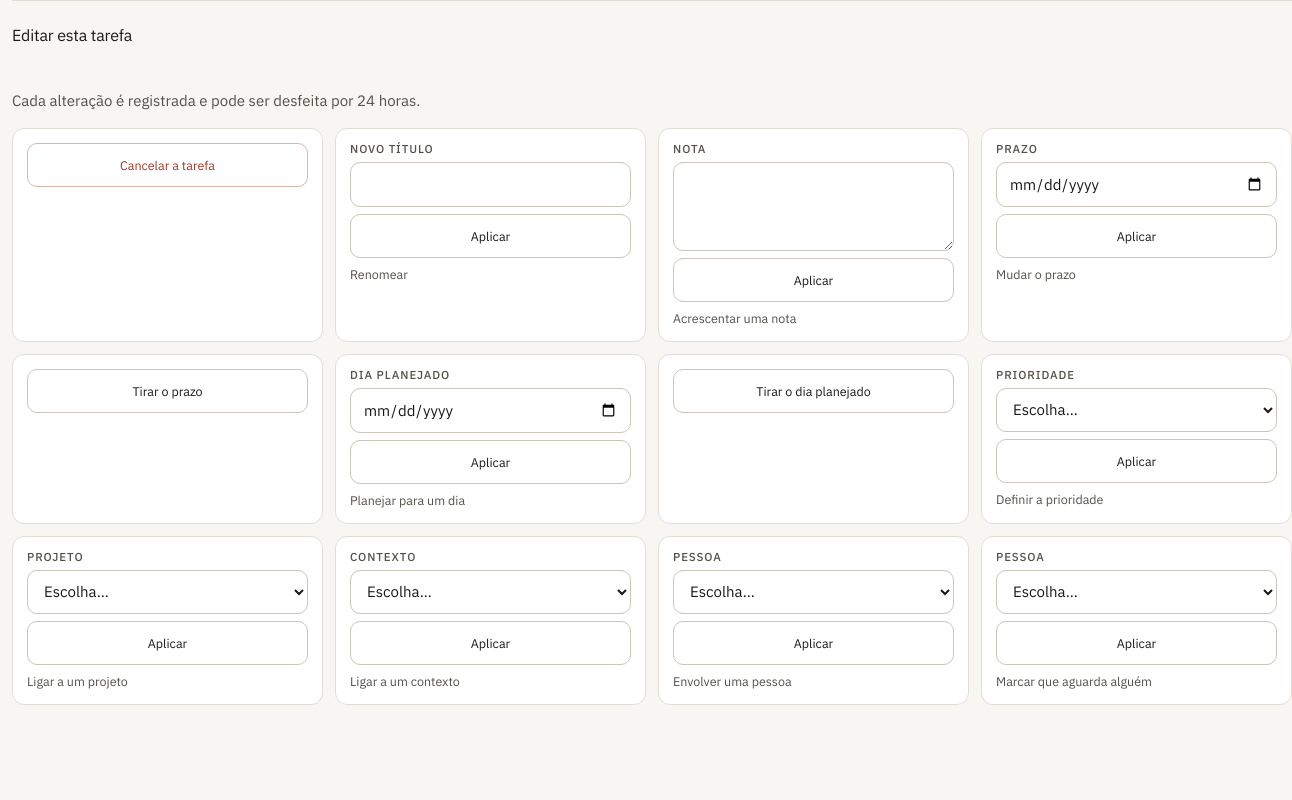
it: what the user is told › renders the declared reason beside the outcome, and moves focus to it
Click the button "Tirar o prazo". click: [168, 391]
box: [27, 369, 308, 413]
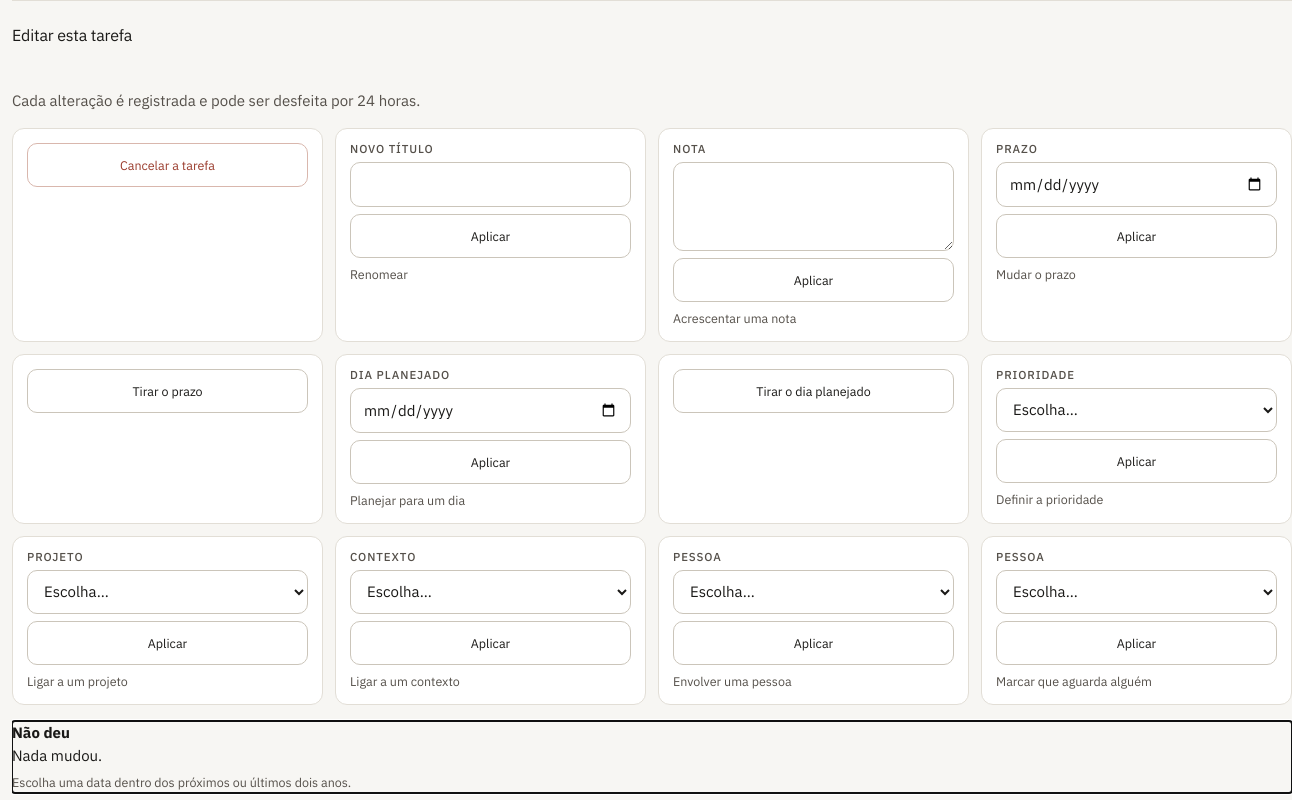
Result: the text "Escolha uma data dentro dos próximos ou últimos dois anos." is shown at [12, 774, 351, 790]
